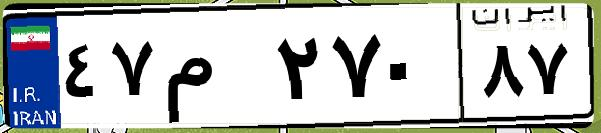0: (385, 28, 445, 110)
2: (270, 28, 330, 110)
4: (57, 26, 110, 100)
7: (330, 28, 385, 110), (525, 38, 570, 115), (110, 28, 158, 98)
8: (475, 38, 525, 113)
م: (158, 20, 270, 120)
